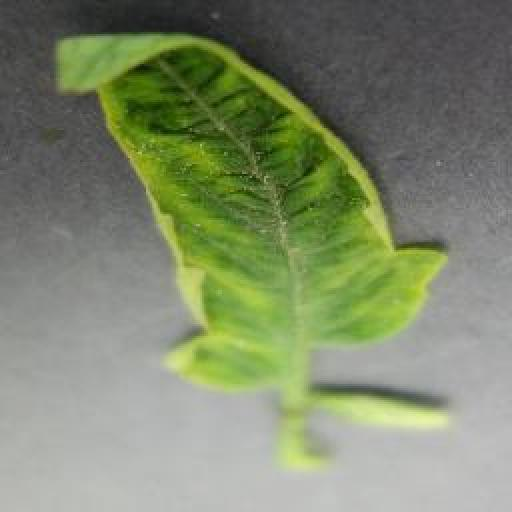disease_tomato: (54, 34, 447, 394)
